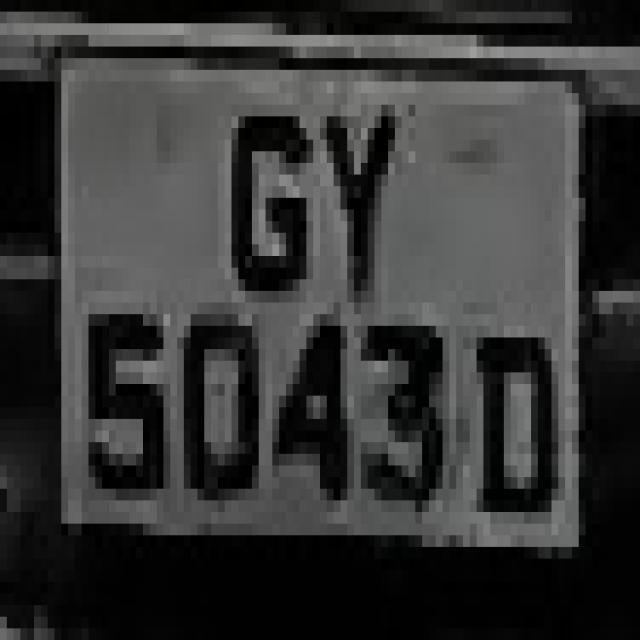0: (150, 279, 272, 524)
3: (354, 303, 449, 535)
4: (252, 279, 361, 524)
5: (75, 279, 177, 524)
D: (443, 302, 558, 558)
G: (211, 81, 313, 302)
Y: (293, 81, 415, 302)
